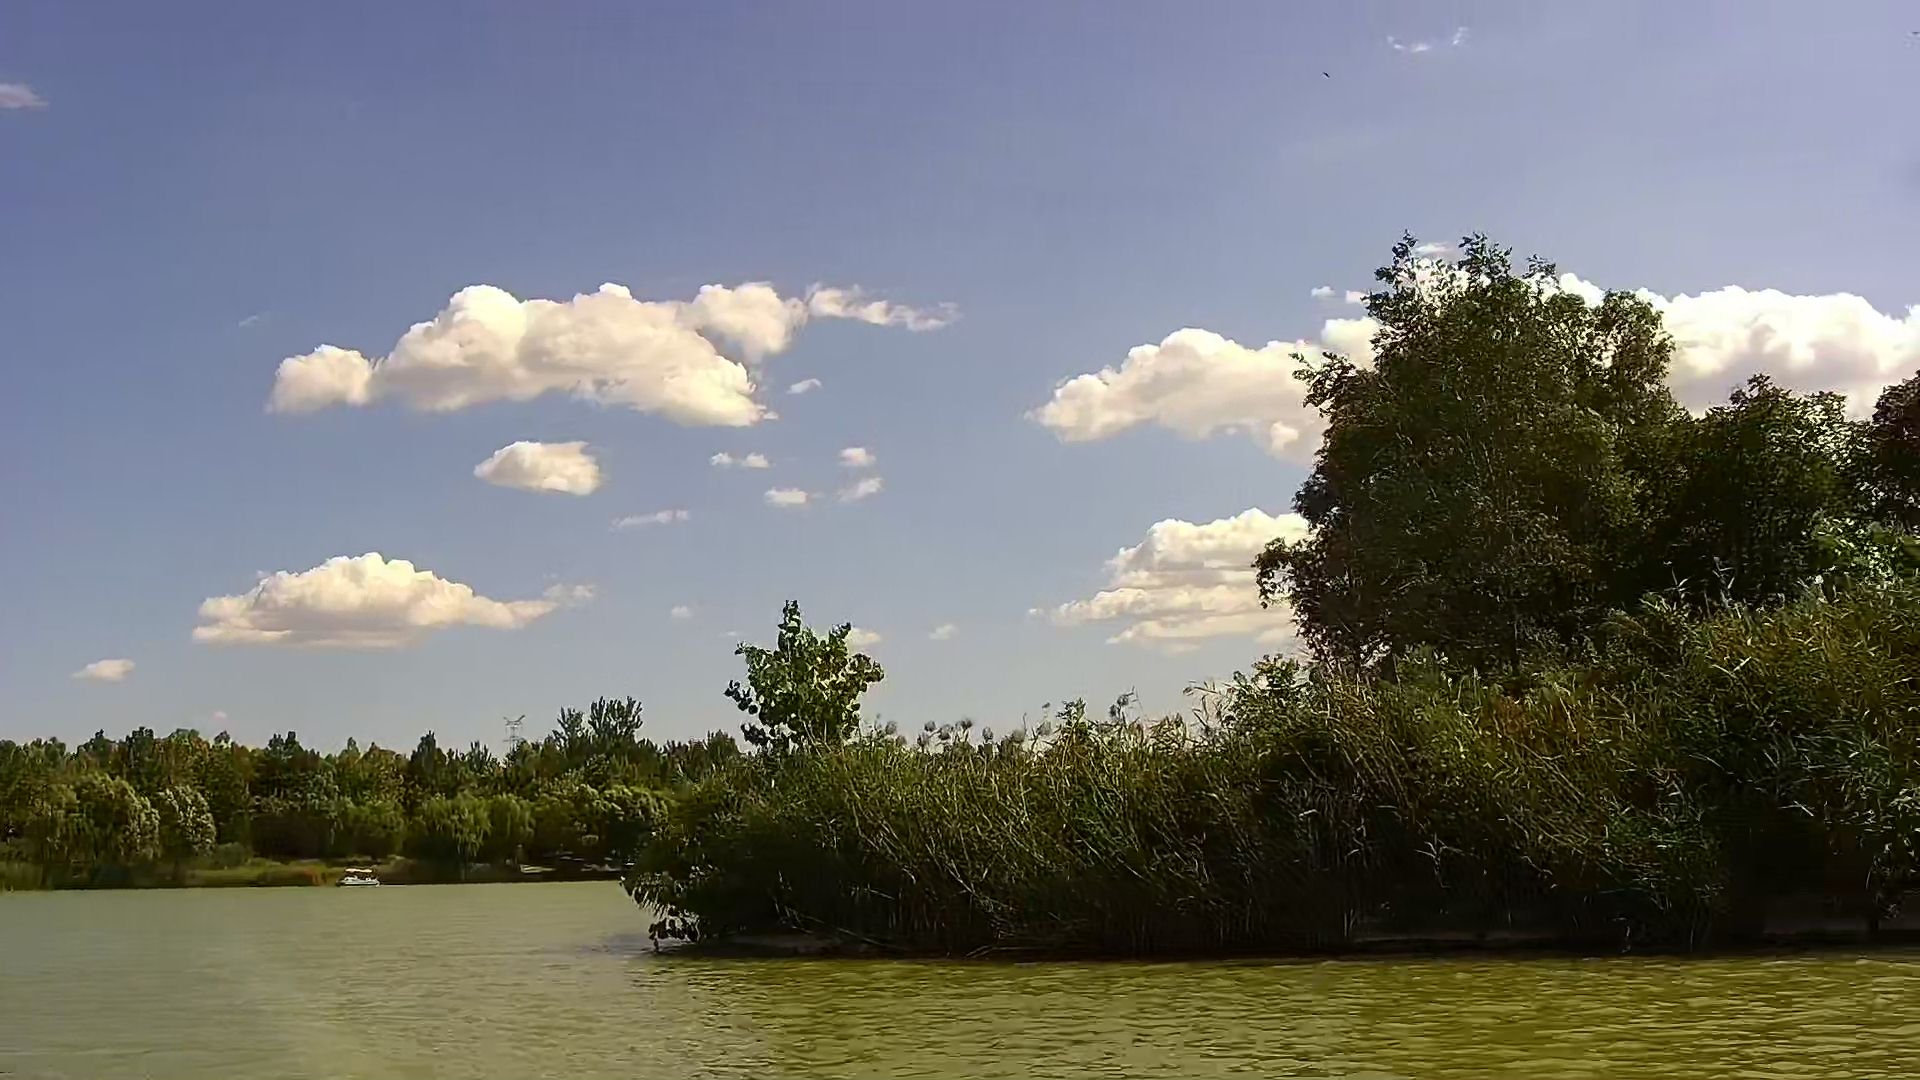boat: (335, 865, 380, 891)
